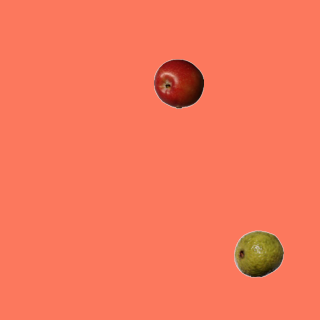Apple Braeburn: (153, 58, 203, 108)
Guava: (233, 228, 283, 278)
